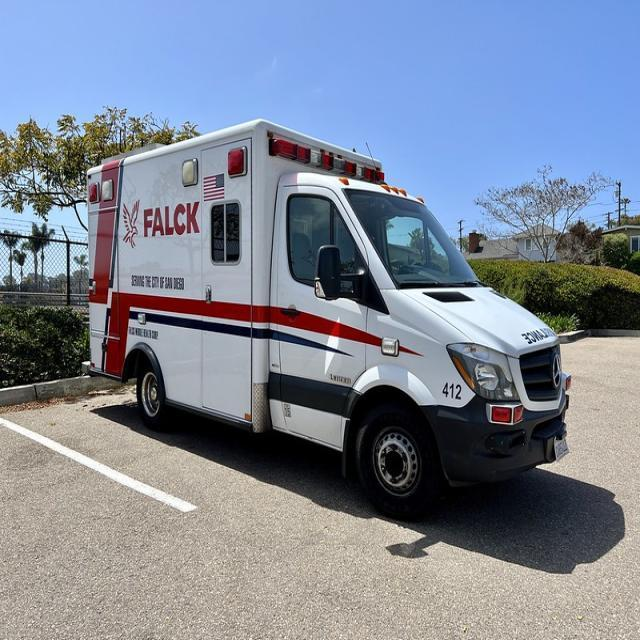emergency: (253, 117, 571, 520)
